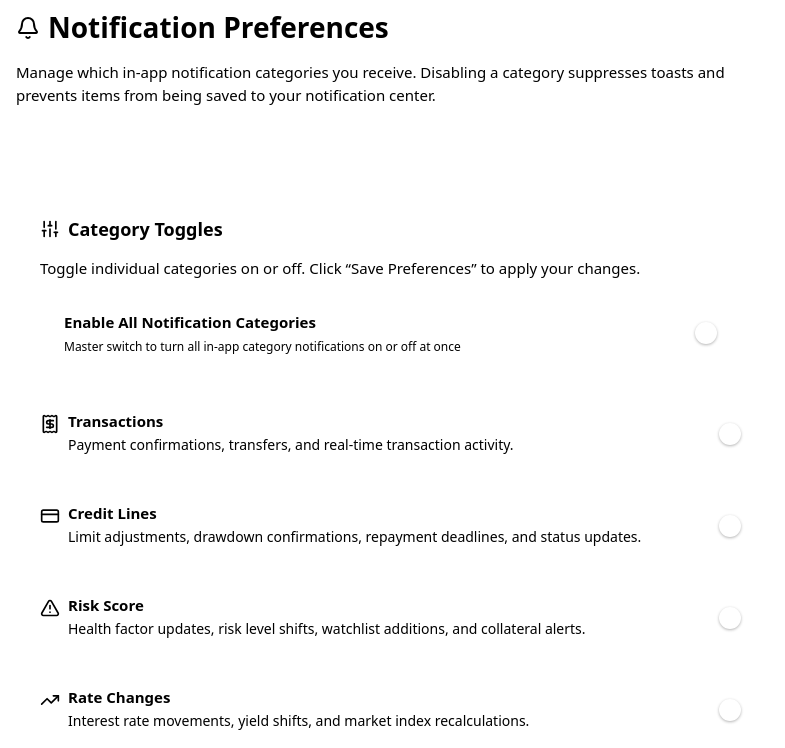
Test: NotificationSettings › shows warning banner when all categories are disabled
Click the switch named "enable all notification categories". click: (696, 333)
box: [672,311,720,355]
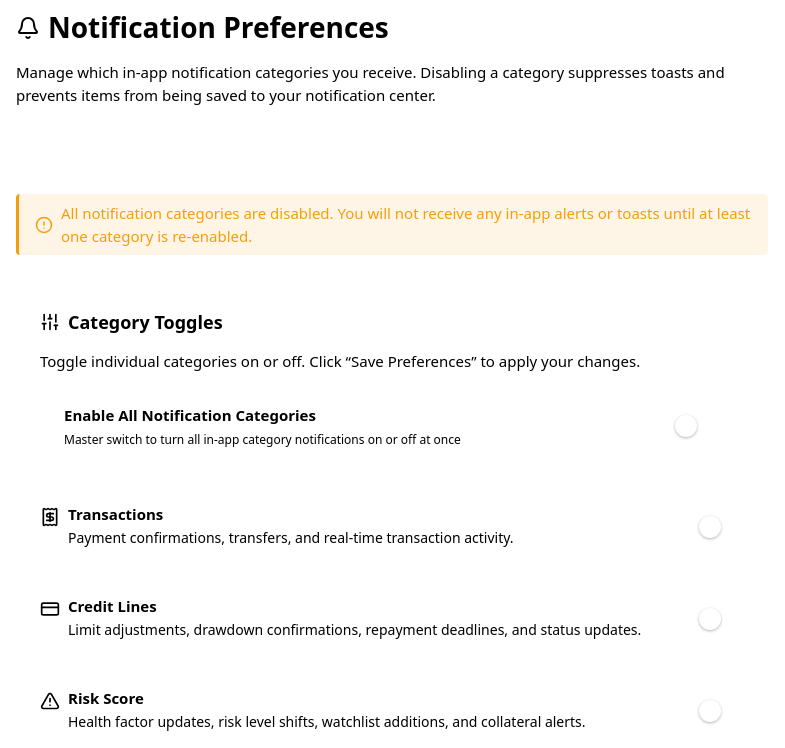
Check: the message is shown, box [16,194,768,255]
Check: the text "All notification categories are disabled" is shown, box [61,203,750,246]
